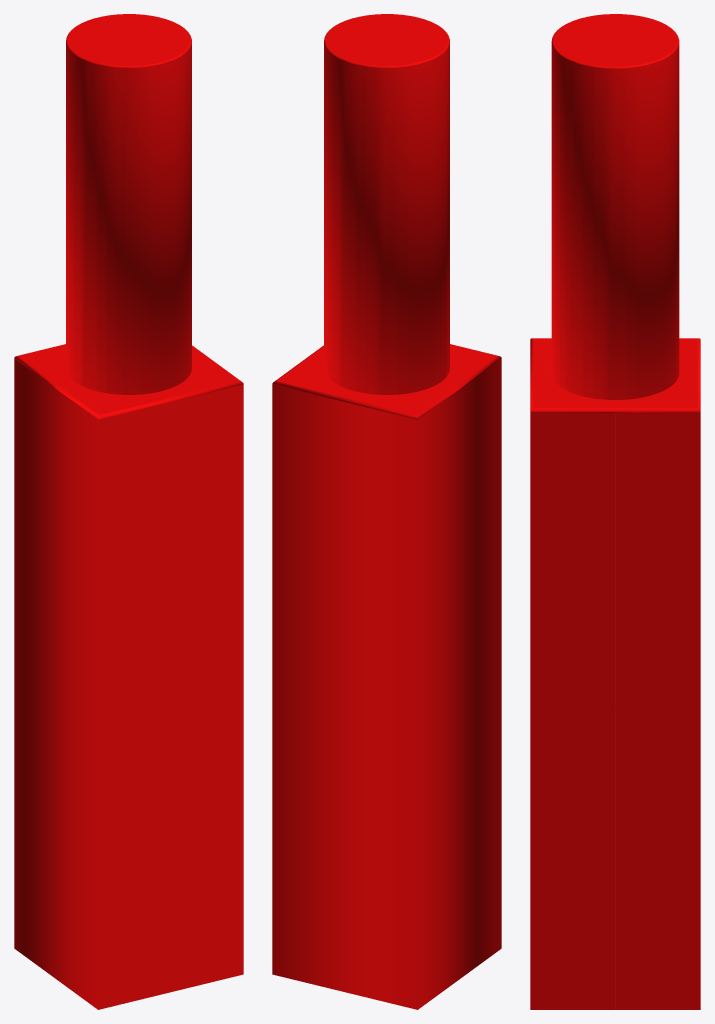
The model's file is Cathode.obj.
3 views of the same model, side by side, from view 1: azimuth 30°, elevation 25°; view 2: azimuth 150°, elevation 25°; view 3: azimuth 270°, elevation 25° (orthographic).
Visible parts, largest first — view 1: Cathode; view 2: Cathode; view 3: Cathode.
Part boxes in pixels (<box>): Cathode: <box>14,14,243,1009</box>; Cathode: <box>272,14,501,1009</box>; Cathode: <box>530,14,700,1009</box>.
Size of the model in its own units: 10 by 60.48 by 10.
